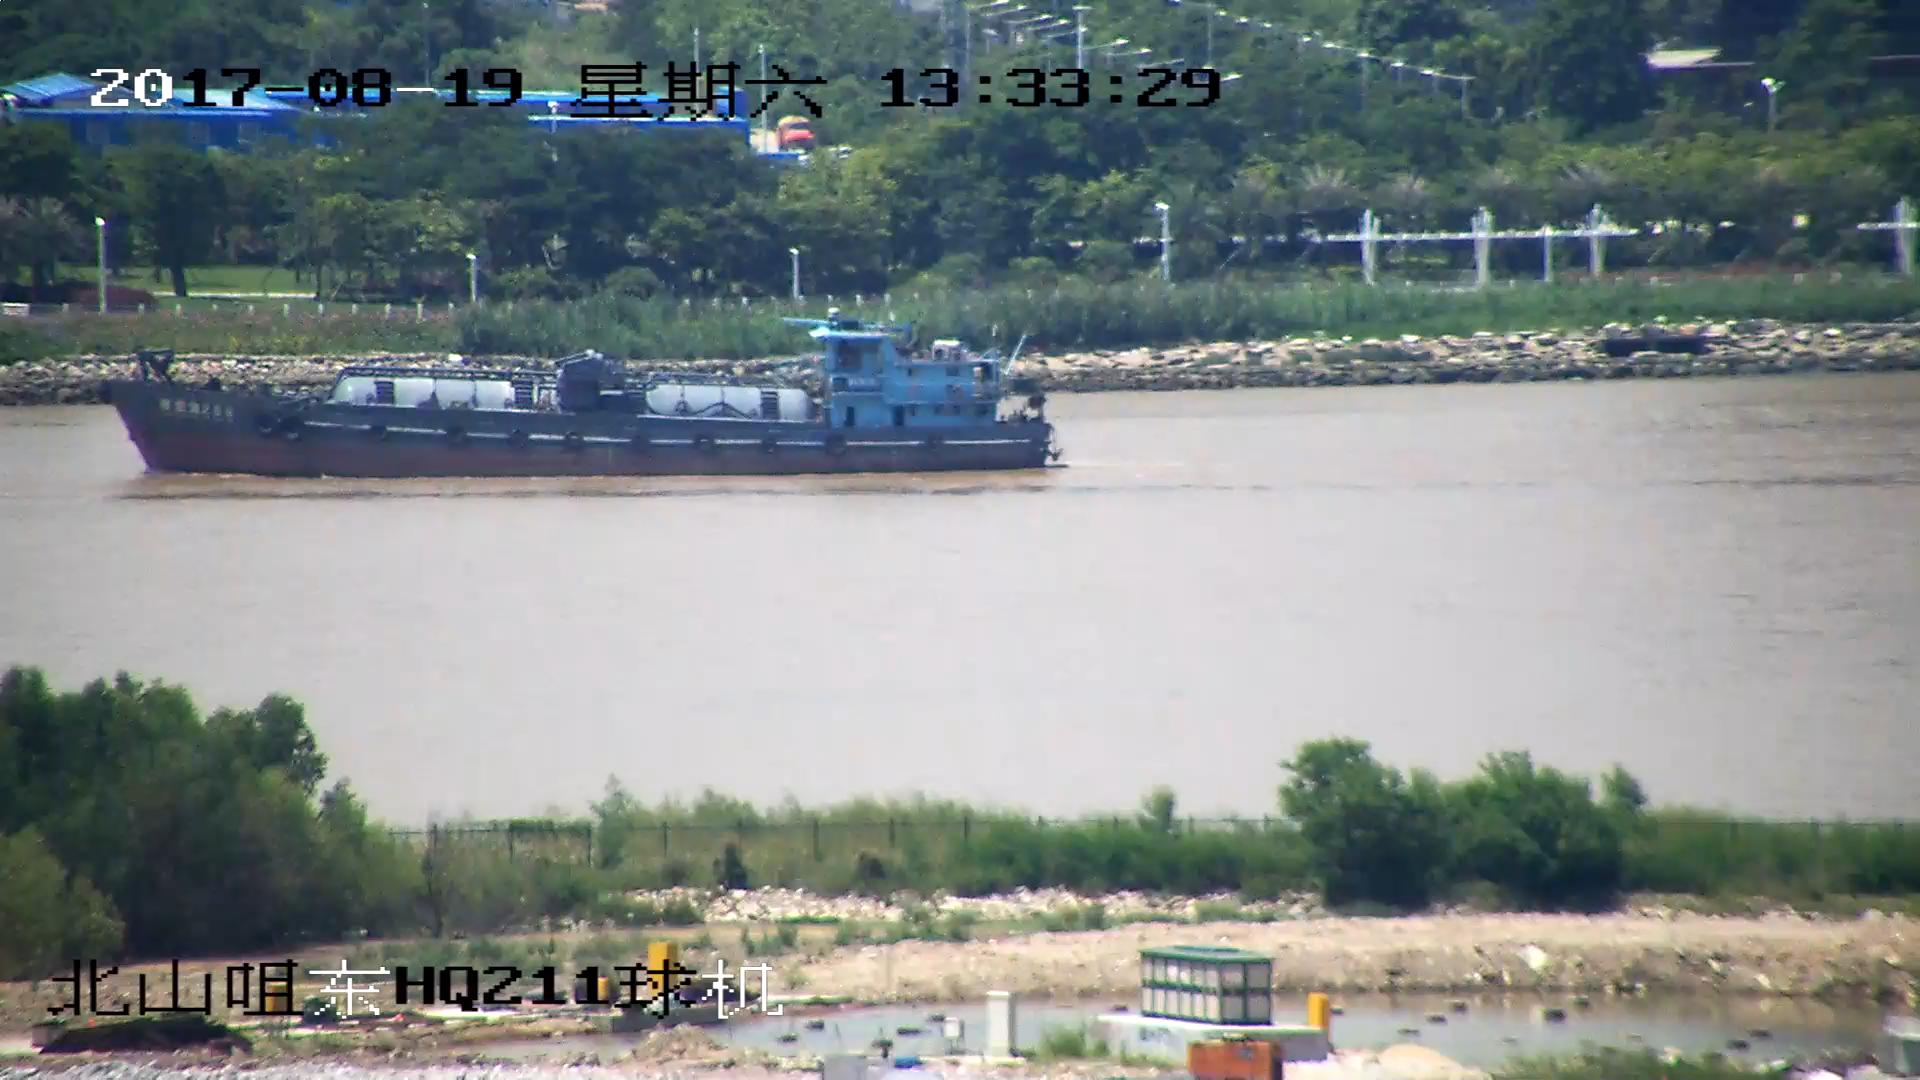bulk cargo carrier: (100, 312, 1064, 479)
